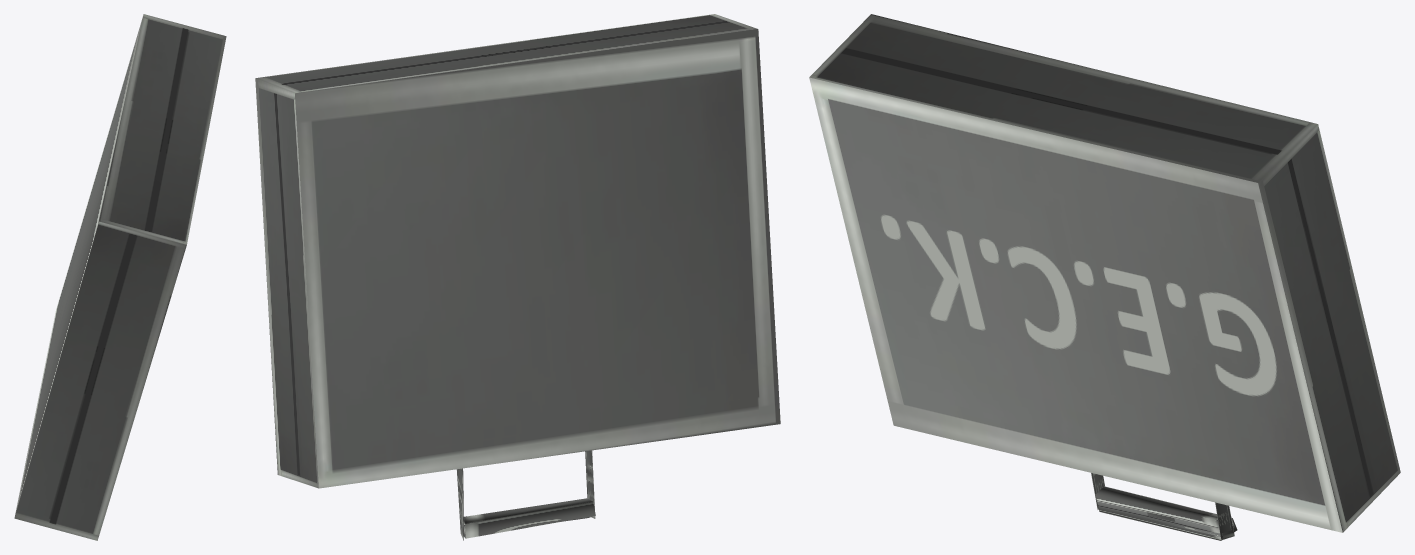
File: geck.obj
The picture shows the model from 3 angles, left to right: view 1: azimuth 30°, elevation 25°; view 2: azimuth 150°, elevation 25°; view 3: azimuth 270°, elevation 25°; orthographic projection. The views are drawn at different scales.
Visible parts, largest first — view 1: Box01; view 2: Box01; view 3: Box01.
Boxes of the visible parts, left/top/right/bottom form: Box01: left=14, top=14, right=226, bottom=540; Box01: left=255, top=14, right=780, bottom=540; Box01: left=809, top=14, right=1400, bottom=540.
Size of the model in its own units: 43.81 by 49.22 by 53.93.
